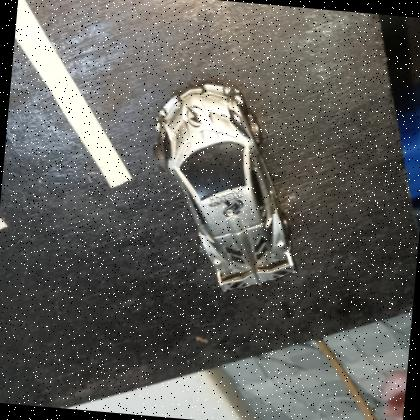Car: (138, 78, 315, 300)
